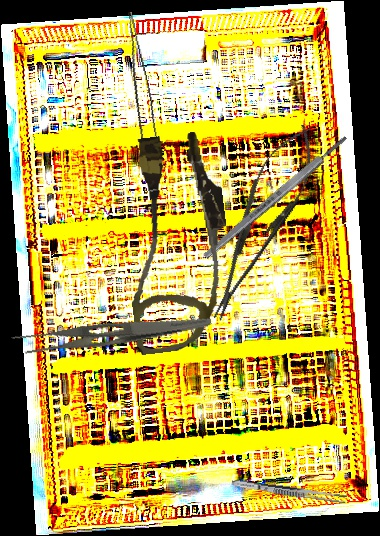Cannula: (112, 129, 241, 356)
Dressing Forceps: (10, 296, 213, 365), (231, 477, 348, 505)
Needle Holder: (193, 115, 329, 330)
Scalpel Handle: (201, 133, 350, 261)
Tissue Forceps: (113, 11, 162, 146)
